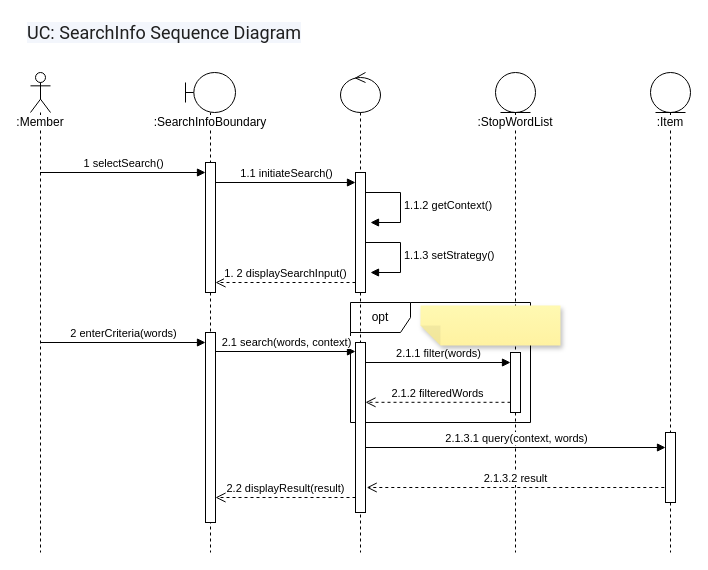
The diagram is 708 pixels wide and 570 high, and some of its shapes have lost their labels. Each missing label, with the centre of its shape:
:SearchInfoController: (x=360, y=312)
Stopword list only applied to certain contexts: (x=491, y=326)
